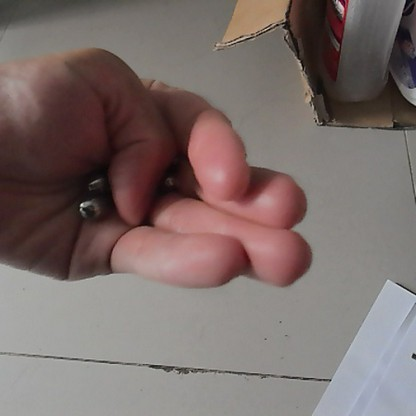ironball: (75, 195, 108, 222), (86, 171, 114, 196), (155, 171, 180, 188)
